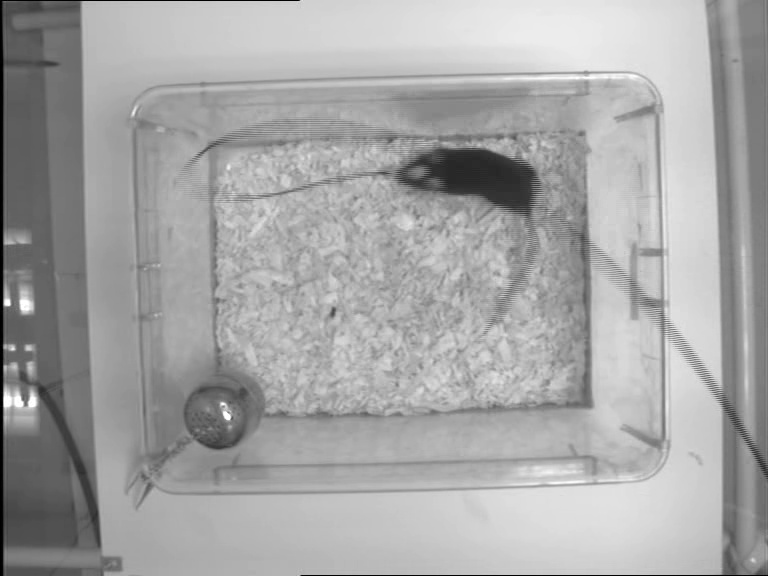mice: (397, 144, 544, 343)
